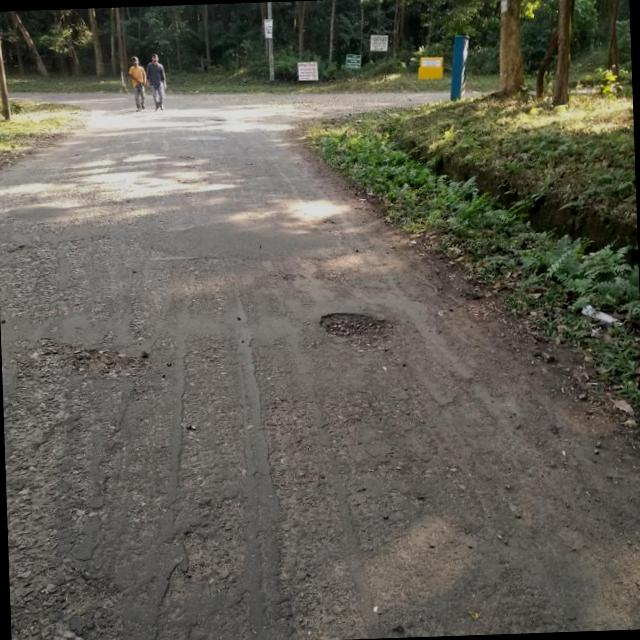Lubang: (320, 312, 392, 352)
